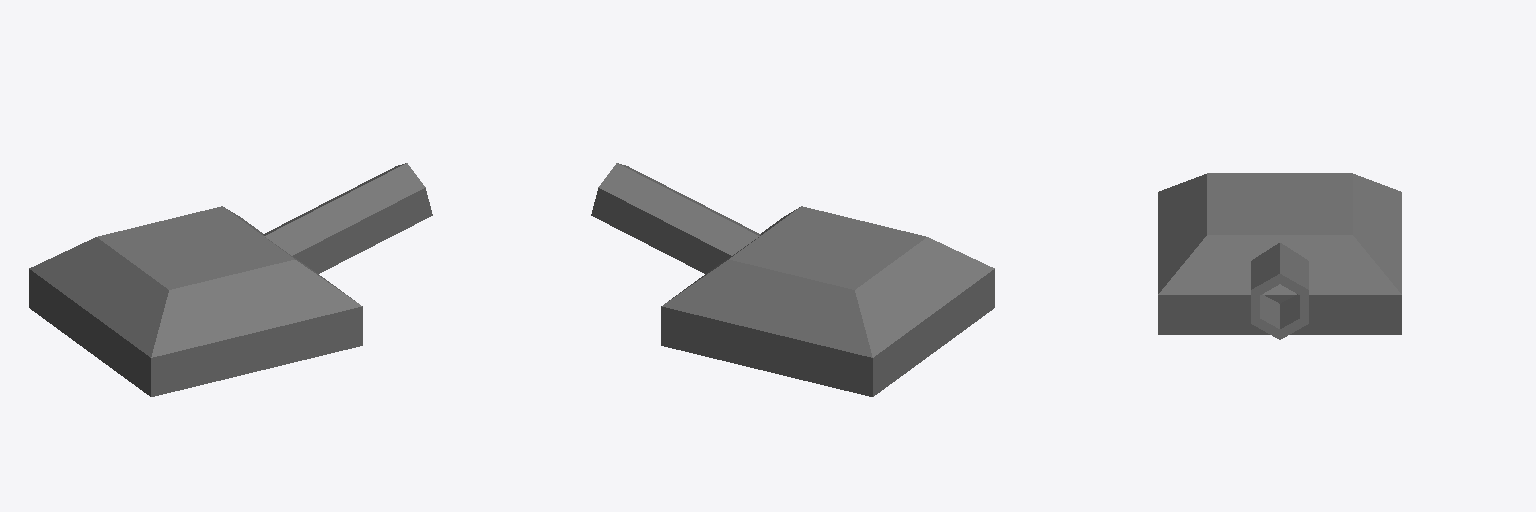
Rendered from Tank Top.obj.
3 views of the same model, side by side, from view 1: azimuth 30°, elevation 25°; view 2: azimuth 150°, elevation 25°; view 3: azimuth 270°, elevation 25° (orthographic).
Parts seen in each view (by area): view 1: Tank Top; view 2: Tank Top; view 3: Tank Top.
Part boxes in pixels (left/top/right/bottom): Tank Top: left=29, top=163, right=432, bottom=396; Tank Top: left=591, top=163, right=994, bottom=396; Tank Top: left=1158, top=173, right=1401, bottom=339.
Size of the model in its own units: 2.49 by 0.8057 by 1.59.